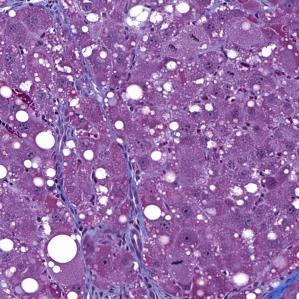fibrosis: (121, 186, 153, 263), (256, 266, 299, 298)
